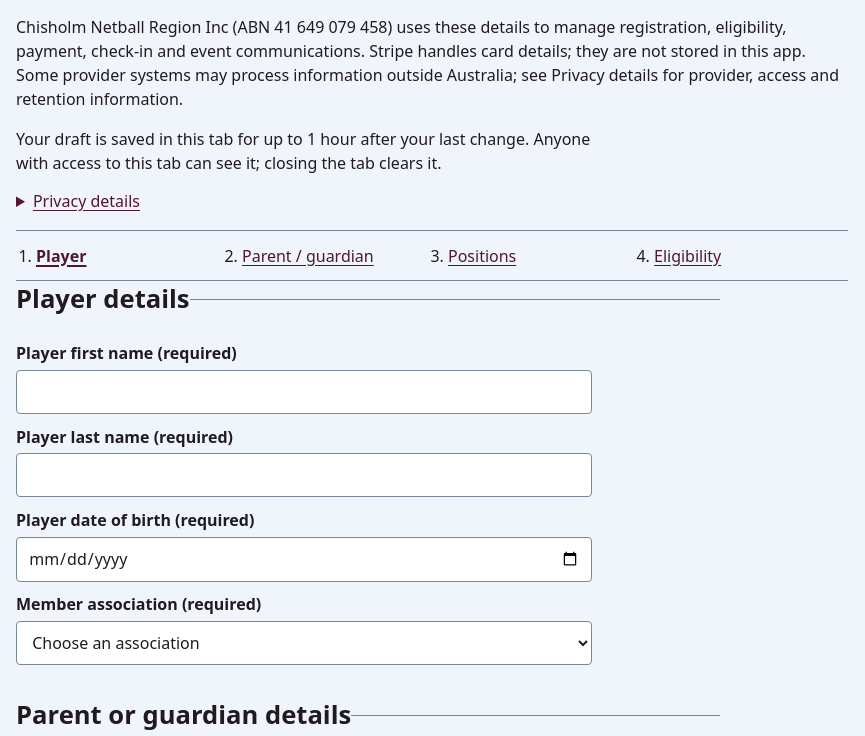
RegisterPage › clears a saved draft and its fields when the parent requests it
The width and height of the screenshot is (865, 736).
(page scrolled)
Type "Ada" into the field labelled "Player first name (required)". click: [304, 392]
box: [16, 370, 592, 414]
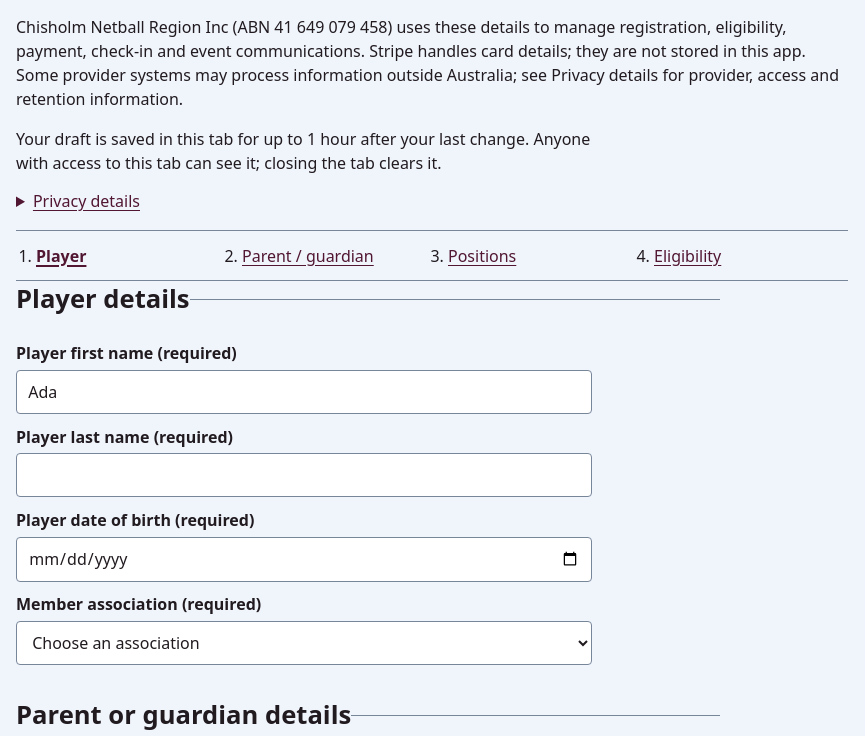
Click the heading "Privacy details". click: [86, 201]
box: [33, 190, 140, 212]
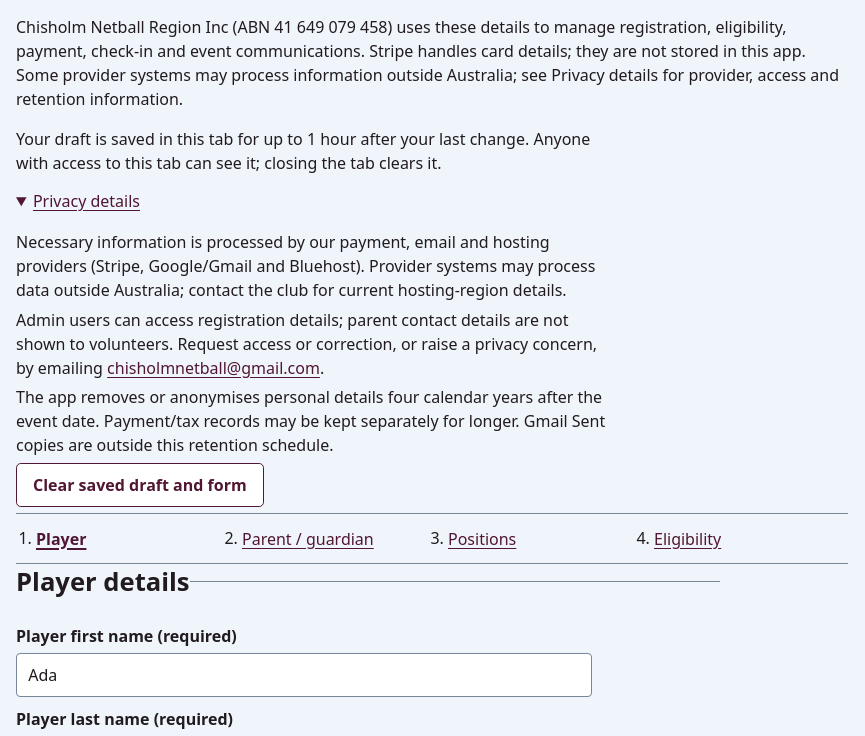
Click the button "Clear saved draft and form". click: [140, 485]
box: [16, 463, 264, 507]
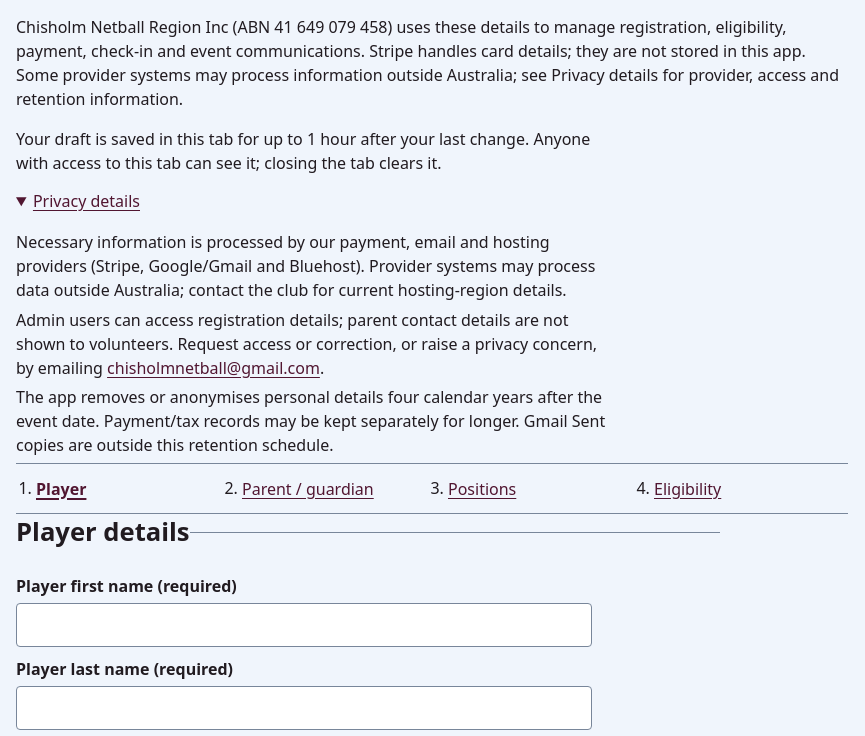
Expected: the field labelled "Player first name (required)" is empty, [16, 603, 592, 647]
